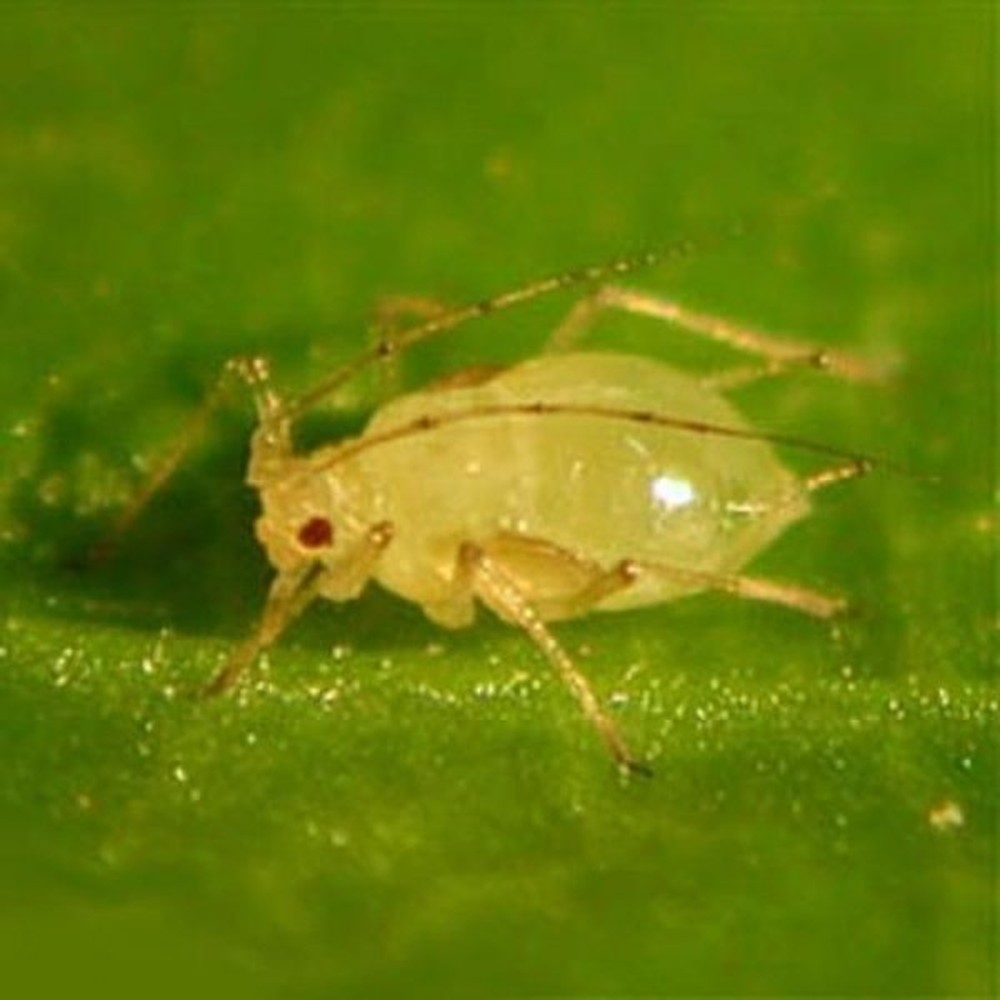Pulgon: (125, 236, 928, 780)
